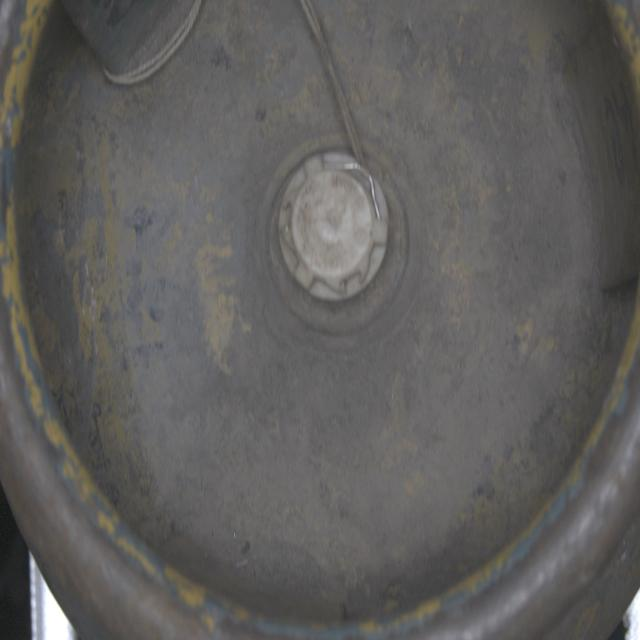Cap: (277, 149, 396, 310)
